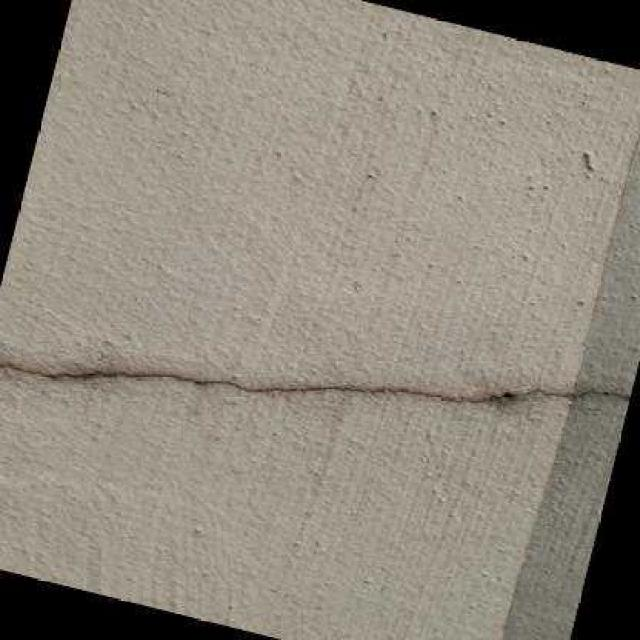D00: (0, 364, 631, 403)
